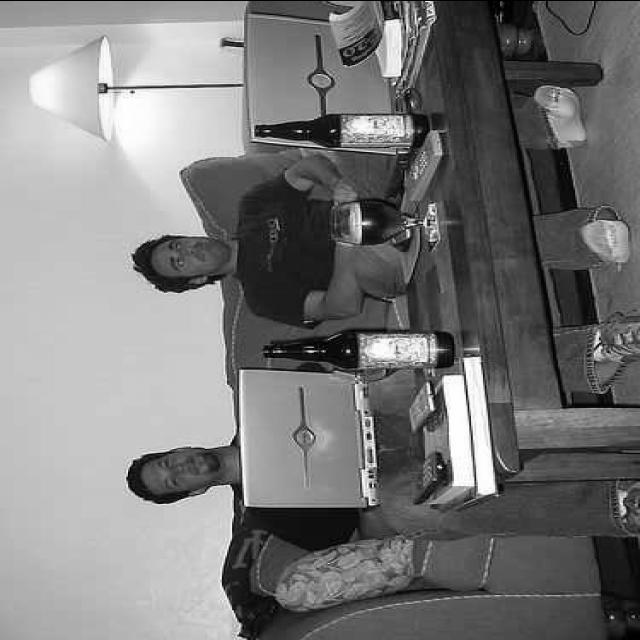laptop: (250, 15, 408, 138), (248, 369, 376, 506)
